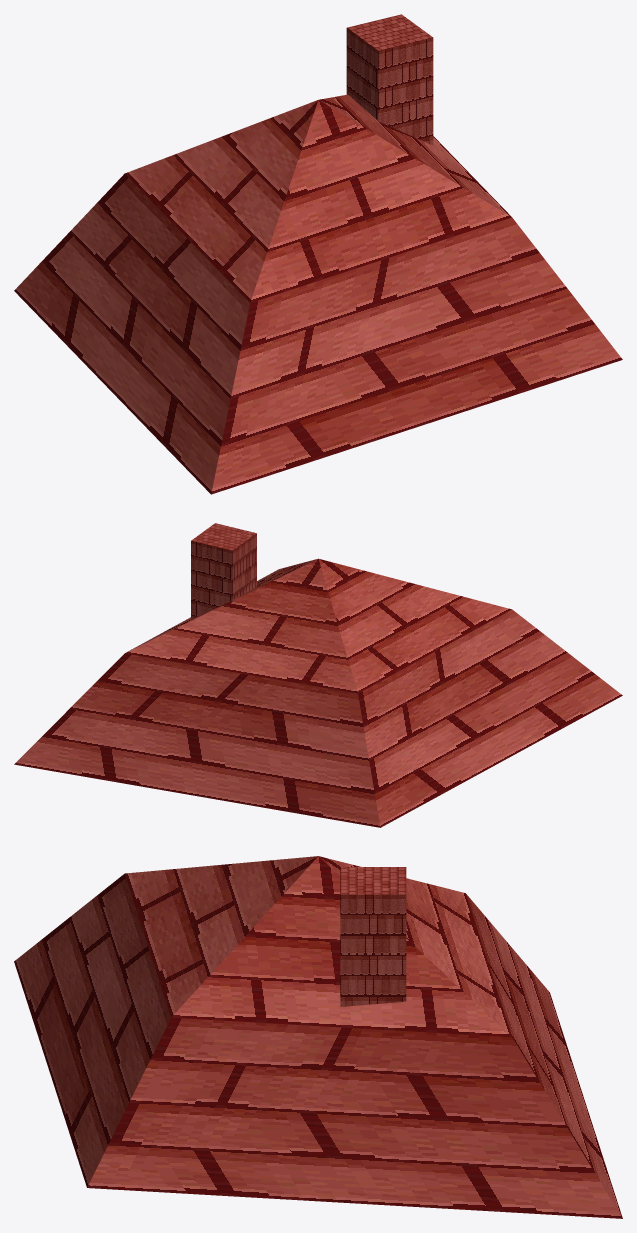
Rendered from telhado_01_taverna.glb.
The picture shows the model from 3 angles, top to bottom: view 1: azimuth 30°, elevation 25°; view 2: azimuth 150°, elevation 25°; view 3: azimuth 270°, elevation 25°; orthographic projection. The views are drawn at different scales.
Parts seen in each view (by area): view 1: telhado_01_taverna; view 2: telhado_01_taverna; view 3: telhado_01_taverna.
Boxes of the visible parts, bbox=[...] form: telhado_01_taverna: bbox=[14, 14, 622, 494]; telhado_01_taverna: bbox=[14, 523, 622, 827]; telhado_01_taverna: bbox=[14, 856, 622, 1218].
Size of the model in its own units: 3.89 by 1.83 by 3.89.
Materials: 1 (1 with a texture image).
